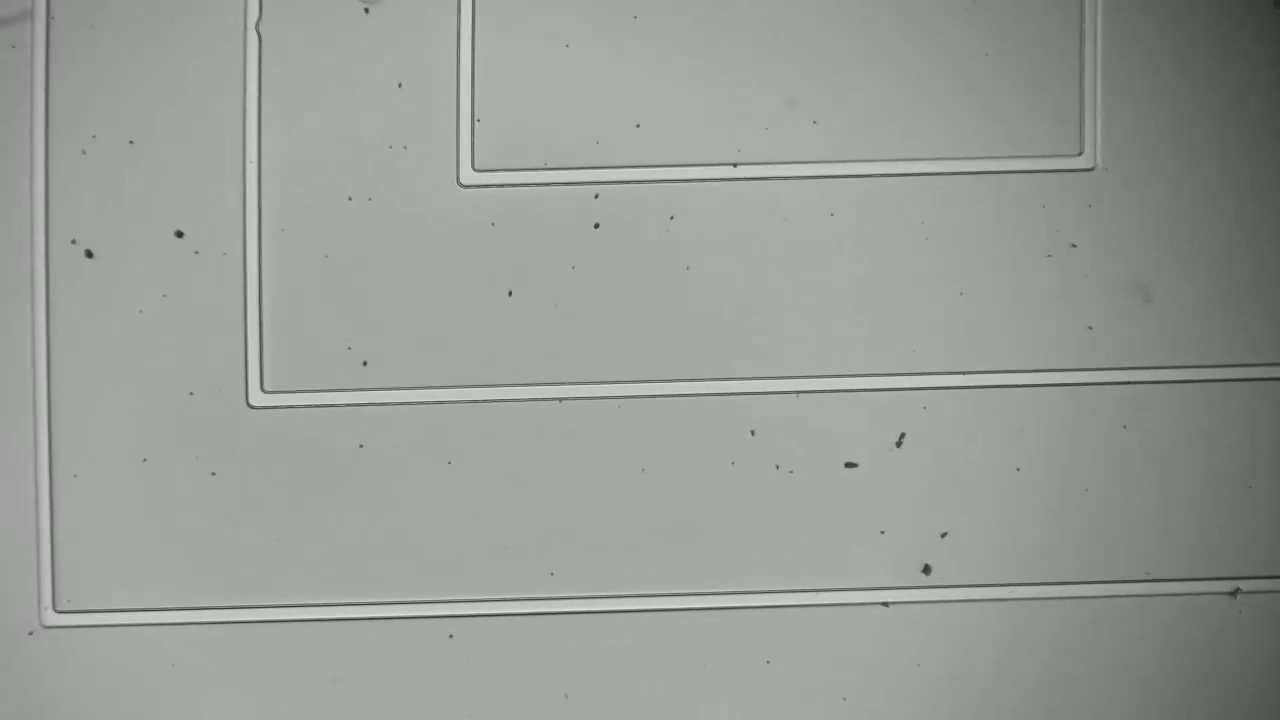edge_bite: (235, 13, 271, 46)
stains_enbedded: (1221, 572, 1250, 604)
